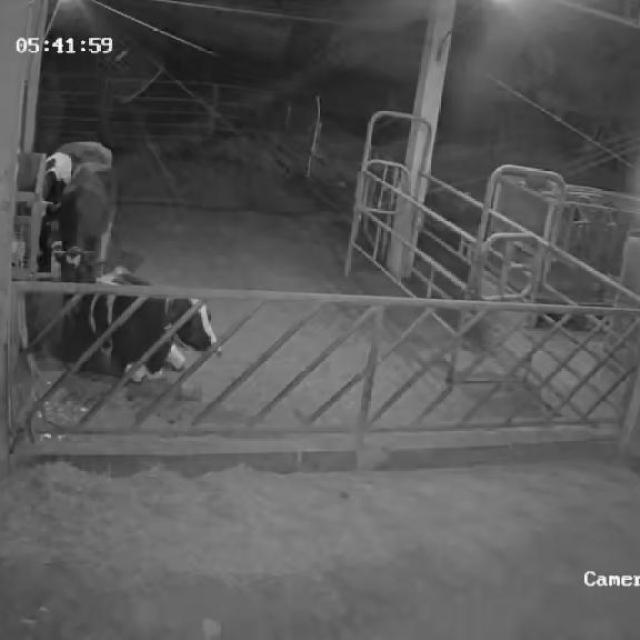lying down: (64, 266, 220, 392)
standing: (36, 136, 113, 264), (53, 164, 113, 284)
